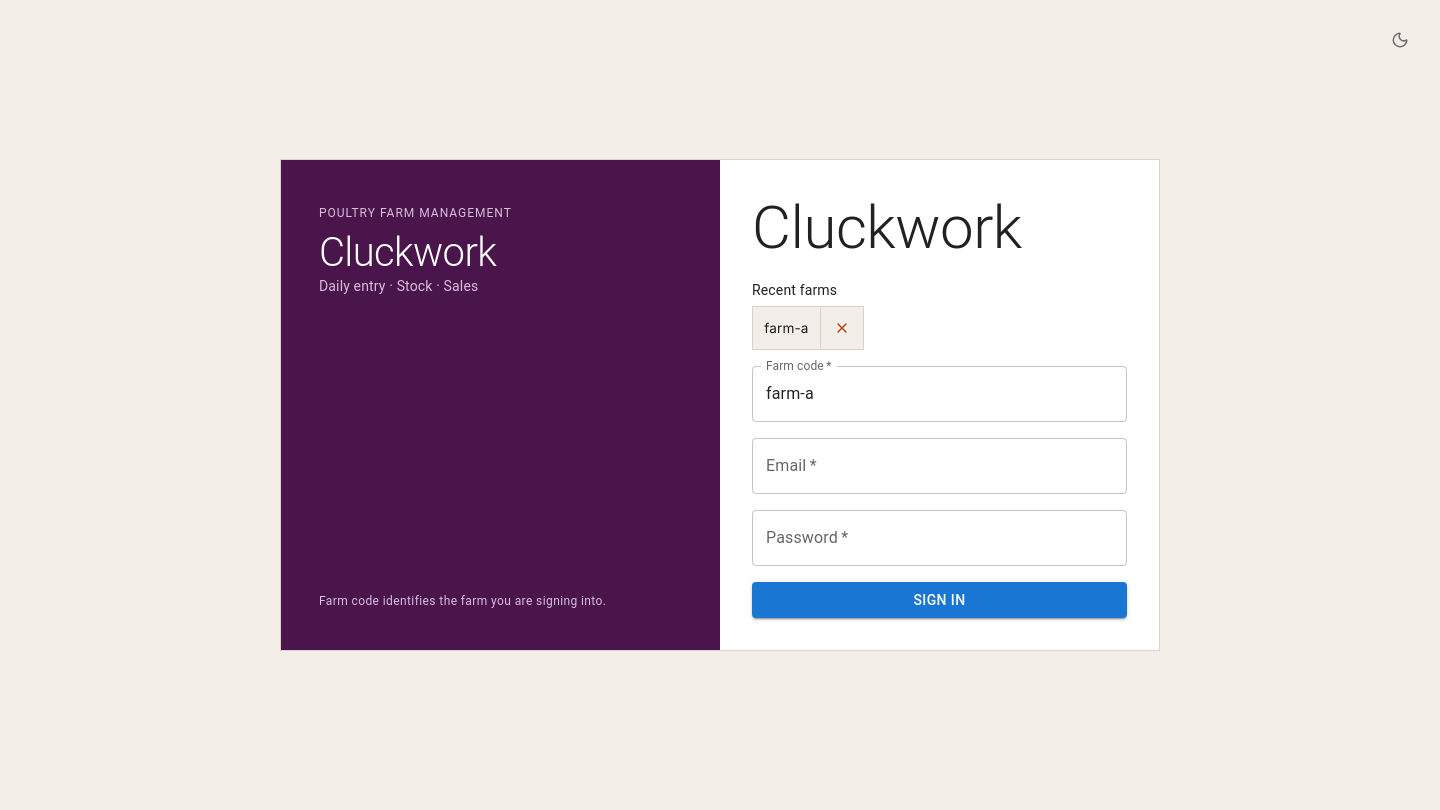
Test: Login — forgetting a remembered farm › forgets a selected prefilled farm, clears the field, and focuses it
Expected: the button "Sign in" is shown, [752, 582, 1127, 618]
Click the button named "Forget farm-a".
click(842, 328)  # box [820, 306, 864, 350]
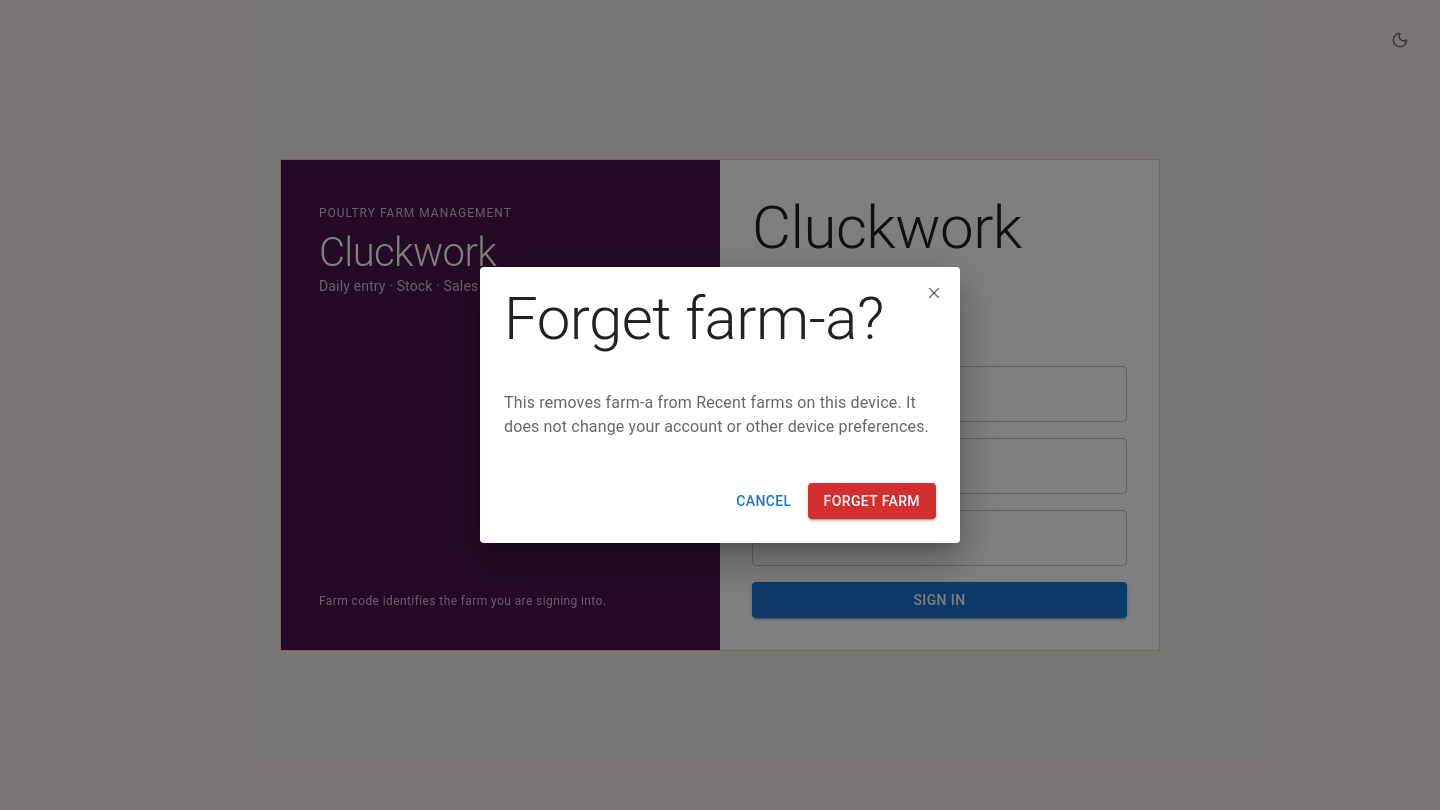
Expected: the field labelled "Farm code *" holds "farm-a", [752, 366, 1127, 422]
Click the button "Forget farm".
click(872, 501)  # box [808, 483, 936, 519]
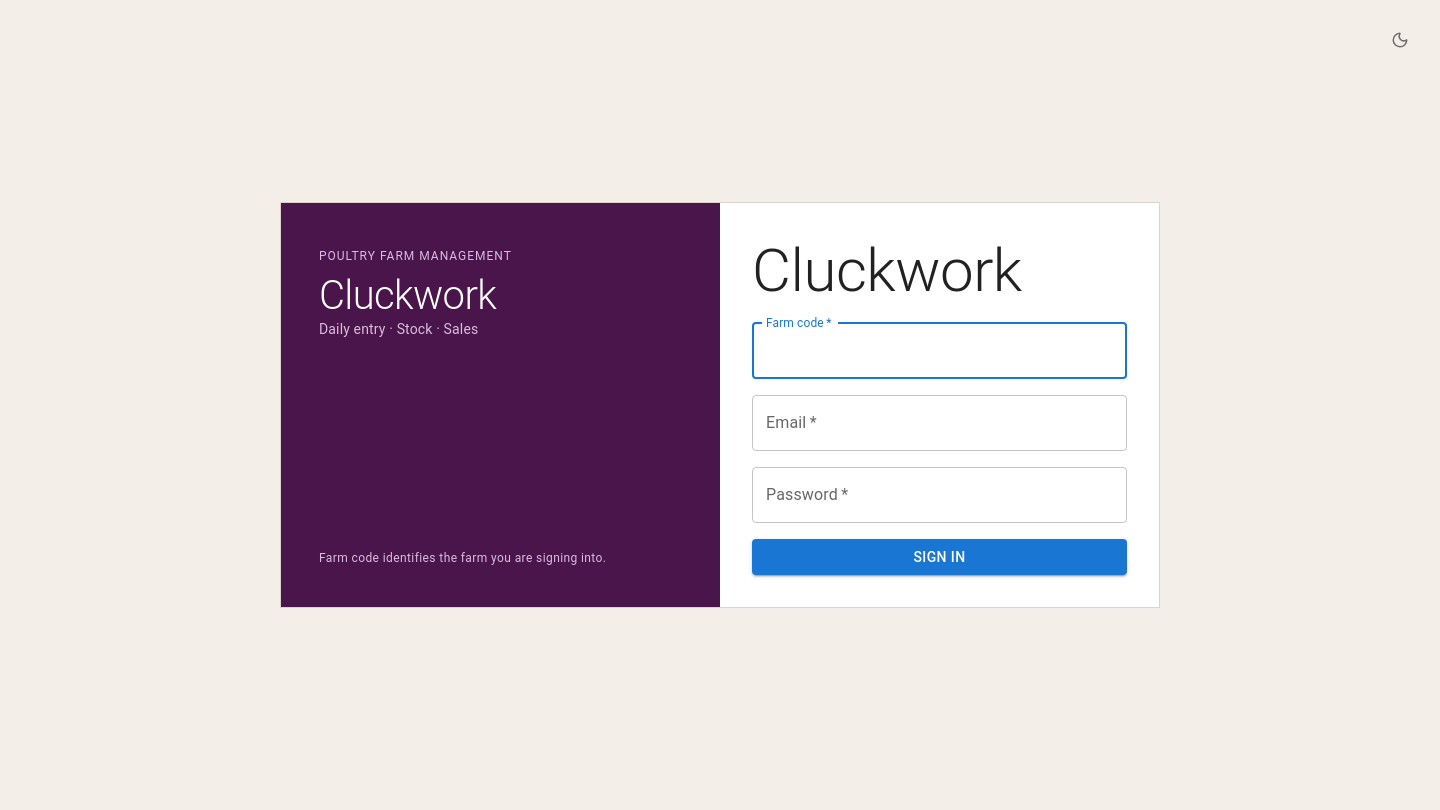
Expected: the field labelled "Farm code *" is empty, [752, 323, 1127, 379]
Expected: the text "Recent farms" is gone
